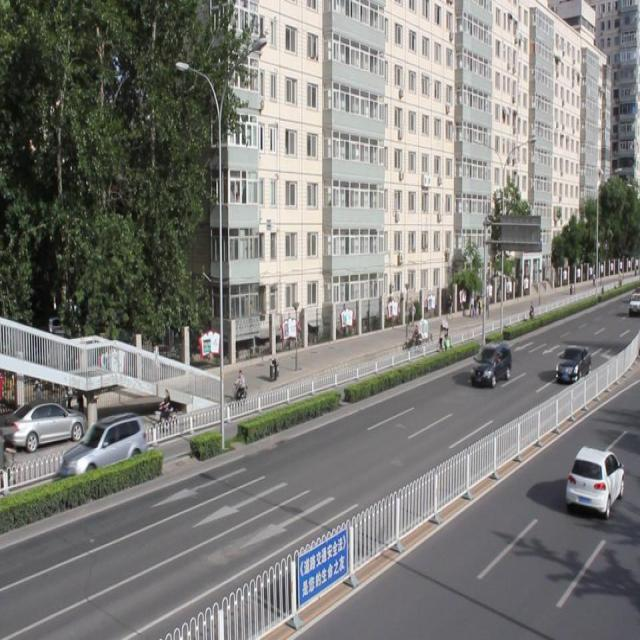car: (59, 412, 149, 482), (564, 444, 622, 517), (470, 341, 511, 388), (554, 344, 590, 384)
